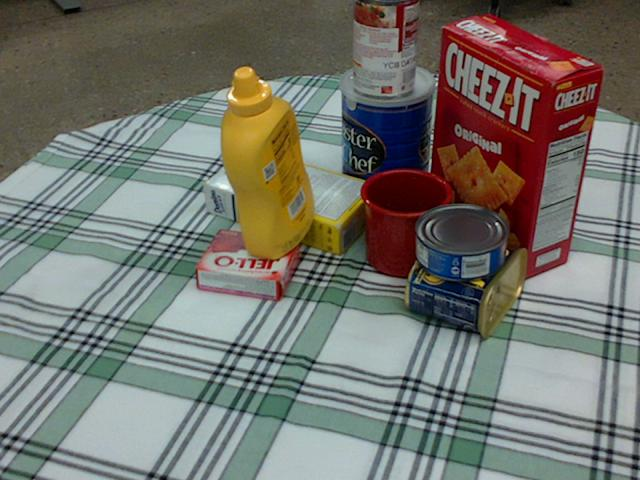cracker_box: (427, 14, 605, 276)
gelatin_box: (195, 230, 301, 301)
master_chef_can: (339, 61, 434, 214)
mug: (361, 168, 454, 277)
mustard_bottle: (220, 67, 313, 259)
potted_meat_can: (406, 224, 529, 334)
sugar_box: (201, 146, 379, 254)
tomato_soup_can: (353, 0, 419, 98)
tuna_fish_can: (414, 204, 508, 280)
